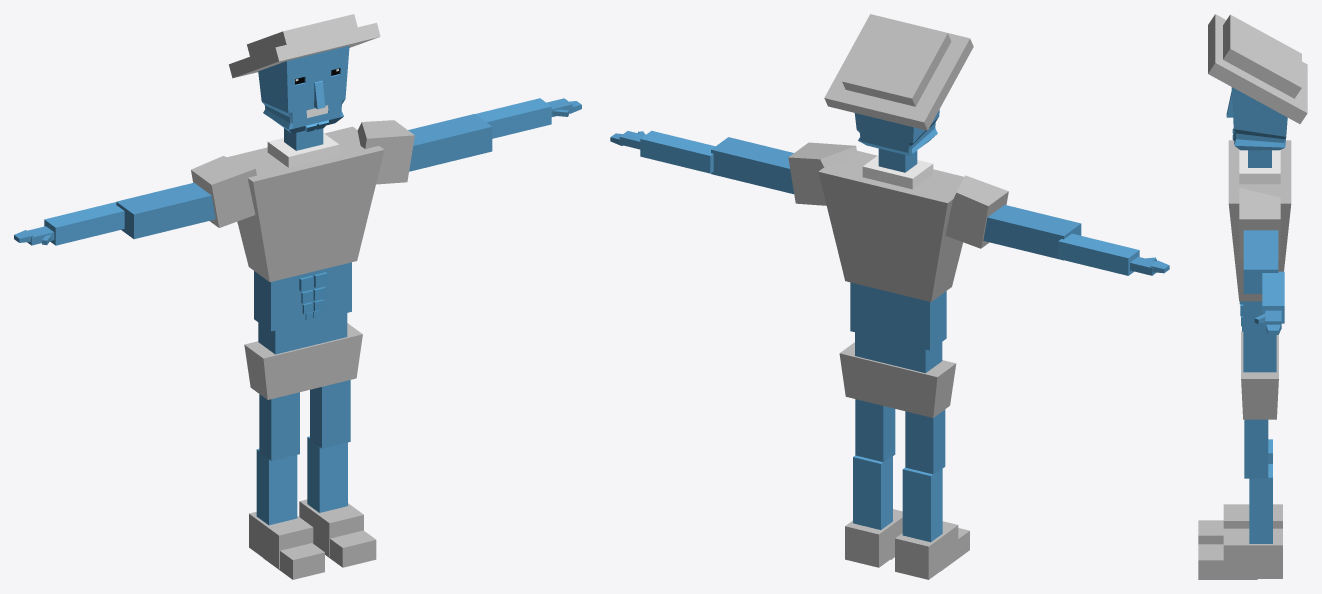
Rendered from low_poly_avatar.glb.
3 views of the same model, side by side, from view 1: azimuth 30°, elevation 25°; view 2: azimuth 150°, elevation 25°; view 3: azimuth 270°, elevation 25° (orthographic).
Parts seen in each view (by area): view 1: Cube.002_2, Cube.009_8, Cube.010_9, Cube.025_25, Cube.013_12, Cube.005_5, Cube.018_18, Cube.004_4, Cube.011_10, Cube.012_11, Cube_0, Cube.001_1 (+9 smaller); view 2: Cube.002_2, Cube.025_25, Cube.010_9, Cube.013_12, Cube.005_5, Cube.018_18, Cube.011_10, Cube.004_4, Cube.012_11, Cube.003_3, Cube.023_23, Cube_0 (+7 smaller); view 3: Cube.025_25, Cube.002_2, Cube.009_8, Cube.024_24, Cube.010_9, Cube.018_18, Cube.003_3, Cube.012_11, Cube.001_1, Cube.013_12, Cube.007_6, Cube.027_27 (+6 smaller).
Boxes of the visible parts, <box> form: Cube.002_2: <box>227,126,384,281</box>; Cube.009_8: <box>258,45,349,133</box>; Cube.010_9: <box>244,323,362,399</box>; Cube.025_25: <box>229,14,380,78</box>; Cube.013_12: <box>254,262,351,331</box>; Cube.005_5: <box>116,182,215,239</box>; Cube.018_18: <box>408,114,492,171</box>; Cube.004_4: <box>191,156,256,227</box>; Cube.011_10: <box>256,449,297,525</box>; Cube.012_11: <box>307,436,347,512</box>; Cube_0: <box>259,392,299,460</box>; Cube.001_1: <box>310,380,350,448</box>; Cube.002_2: <box>818,150,964,301</box>; Cube.025_25: <box>824,14,973,130</box>; Cube.010_9: <box>839,342,956,417</box>; Cube.013_12: <box>850,282,946,350</box>; Cube.005_5: <box>983,205,1081,260</box>; Cube.018_18: <box>711,137,793,194</box>; Cube.011_10: <box>902,467,942,542</box>; Cube.004_4: <box>945,175,1008,248</box>; Cube.012_11: <box>853,455,892,529</box>; Cube.003_3: <box>788,142,857,205</box>; Cube.023_23: <box>895,521,958,579</box>; Cube_0: <box>905,409,945,474</box>; Cube.025_25: <box>1208,14,1307,123</box>; Cube.002_2: <box>1228,140,1291,301</box>; Cube.009_8: <box>1226,87,1287,150</box>; Cube.024_24: <box>1223,528,1282,578</box>; Cube.010_9: <box>1241,331,1278,419</box>; Cube.018_18: <box>1243,230,1278,293</box>; Cube.003_3: <box>1239,188,1280,259</box>; Cube.012_11: <box>1249,464,1272,543</box>; Cube.001_1: <box>1244,419,1268,478</box>; Cube.013_12: <box>1243,301,1276,350</box>; Cube.007_6: <box>1239,150,1280,184</box>; Cube.027_27: <box>1198,544,1257,579</box>.
Size of the model in its own units: 4.71 by 4.28 by 0.8033.
